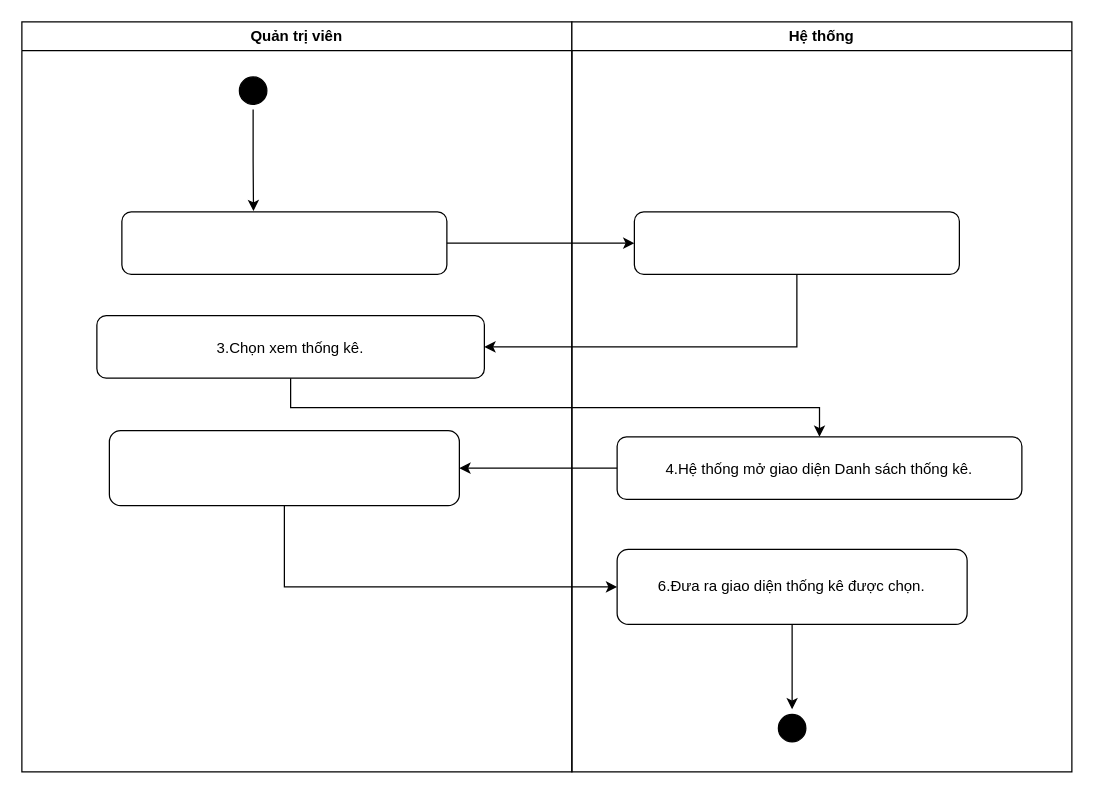
This 1094x794 diagram has some shape labels left out. Each missing label, with the centre of its shape:
"1.Chọn vào ngưòi dùng trên trang chủ." belongs at point (284, 242).
"2.Đưa ra giao diện người dùng với chức năng của quản trị viên" belongs at point (796, 242).
"5.Chọn loại thống kê muốn xem" belongs at point (283, 467).
